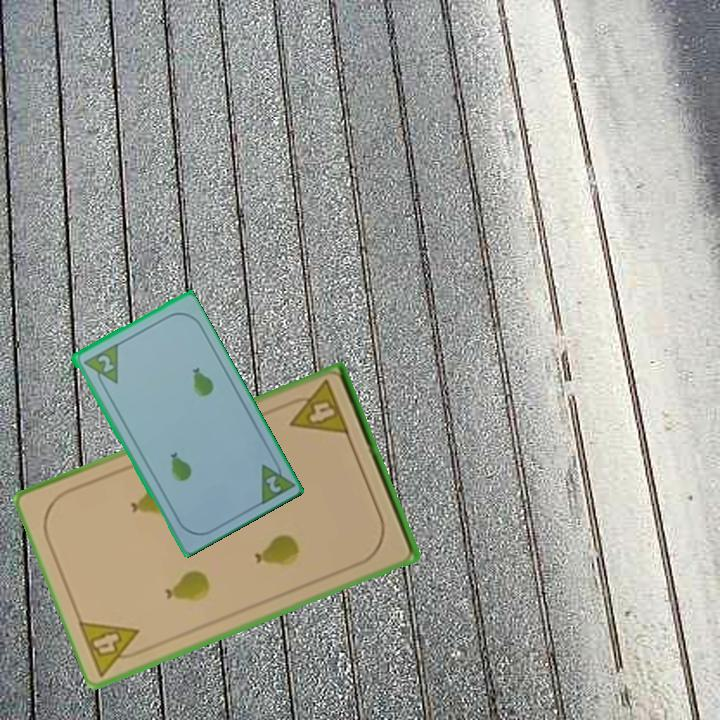2p: (255, 453, 295, 508), (79, 340, 121, 392)
4p: (75, 617, 152, 679), (281, 377, 352, 439)
